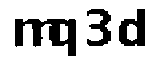3: (83, 7, 113, 47)
d: (119, 6, 149, 49)
m: (12, 17, 56, 53)
q: (48, 17, 80, 60)
